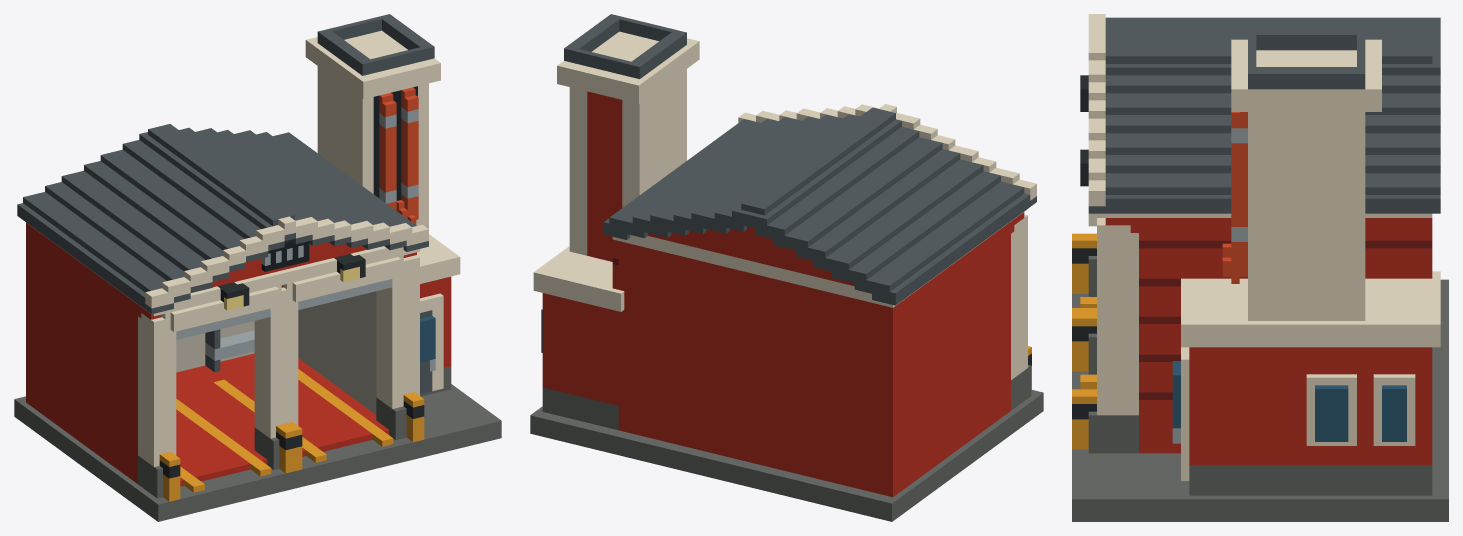
The model's file is fire_station.glb.
The picture shows the model from 3 angles, left to right: view 1: azimuth 30°, elevation 25°; view 2: azimuth 150°, elevation 25°; view 3: azimuth 270°, elevation 25°; orthographic projection. The views are drawn at different scales.
Visible parts, largest first — view 1: fire_station; view 2: fire_station; view 3: fire_station.
Boxes of the visible parts, x1,y1,x2,y2 form: fire_station: (14,14,501,521); fire_station: (530,14,1043,521); fire_station: (1072,14,1448,521).
Bounding box in the file's own units: 7.56 × 7.08 × 5.4.
